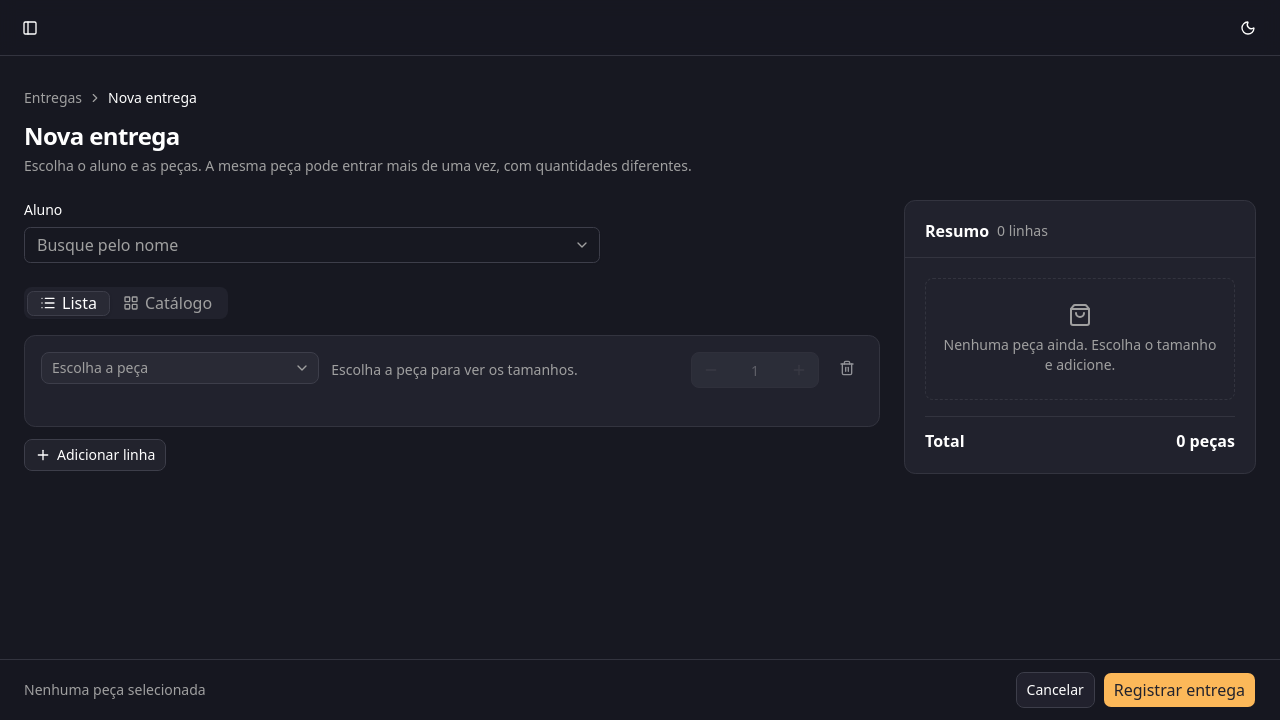
Test: NovaEntregaPage › exige um aluno antes de registrar
Click the dropdown named "Peça da linha 1": (100, 368) x1=41 y1=352 x2=319 y2=384
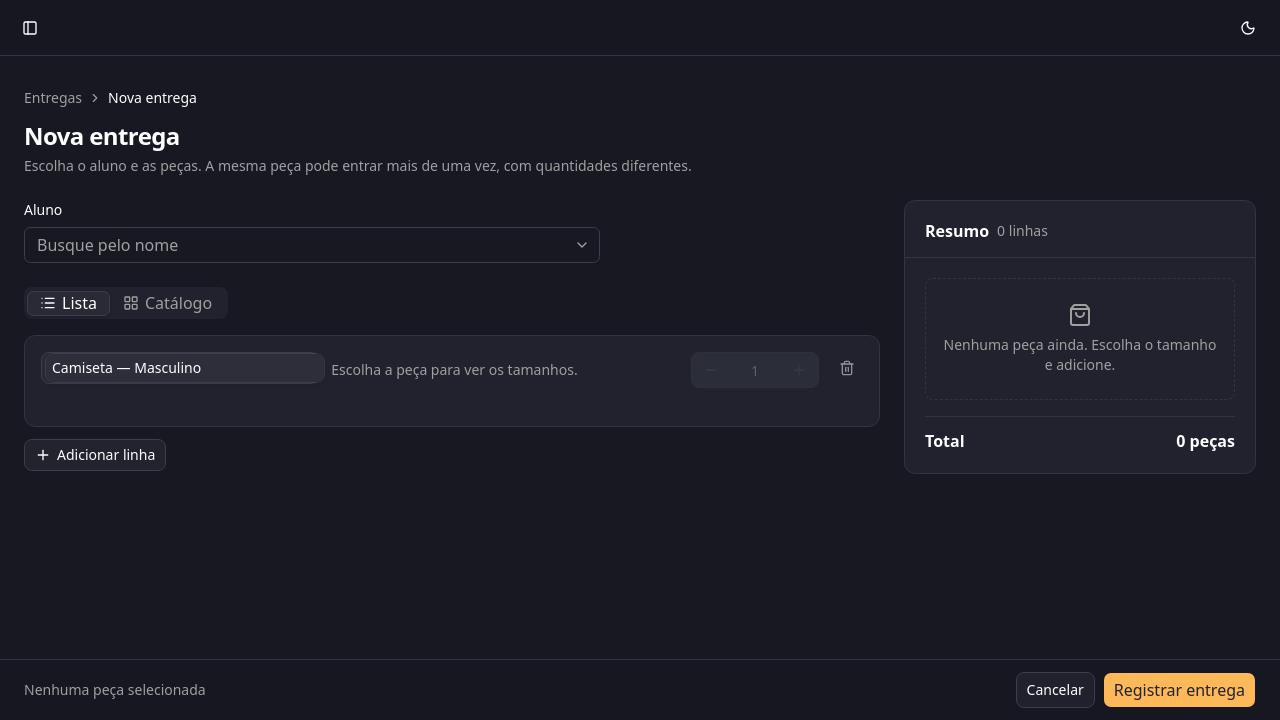
Click the option "Camiseta — Masculino": (185, 368) x1=46 y1=354 x2=324 y2=382
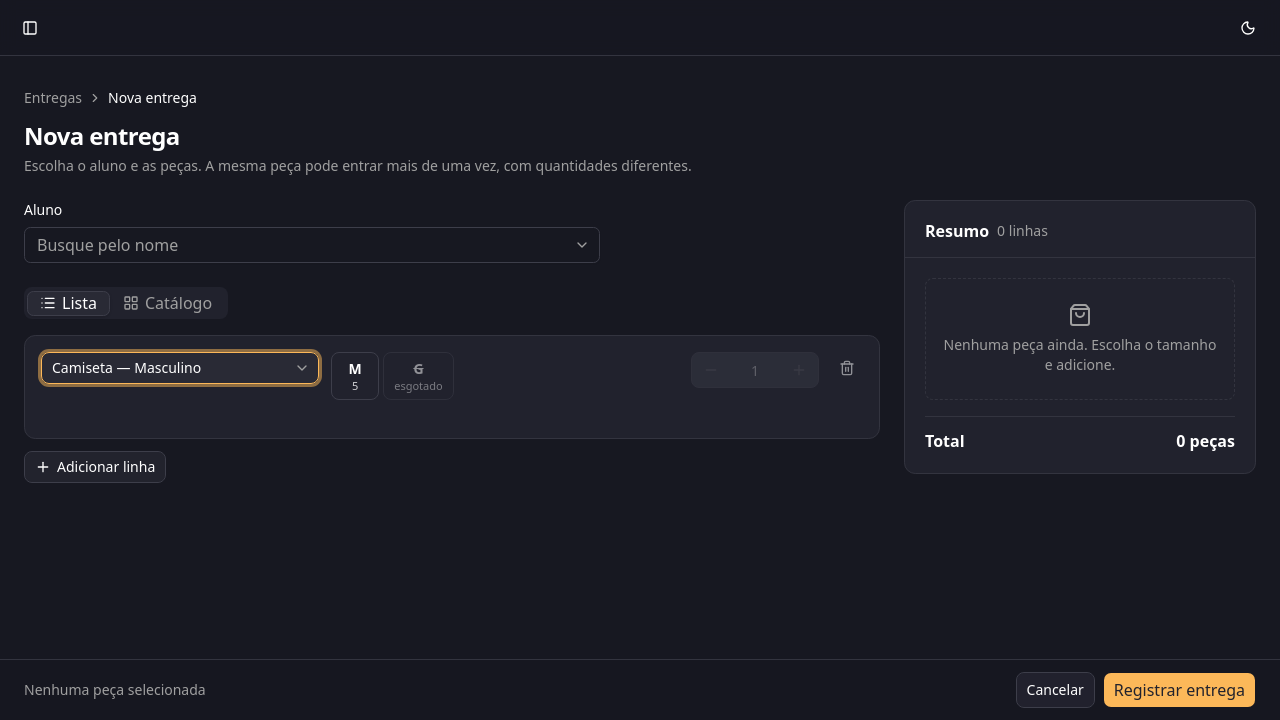
Click the button "M 5": (355, 376) x1=331 y1=352 x2=379 y2=400
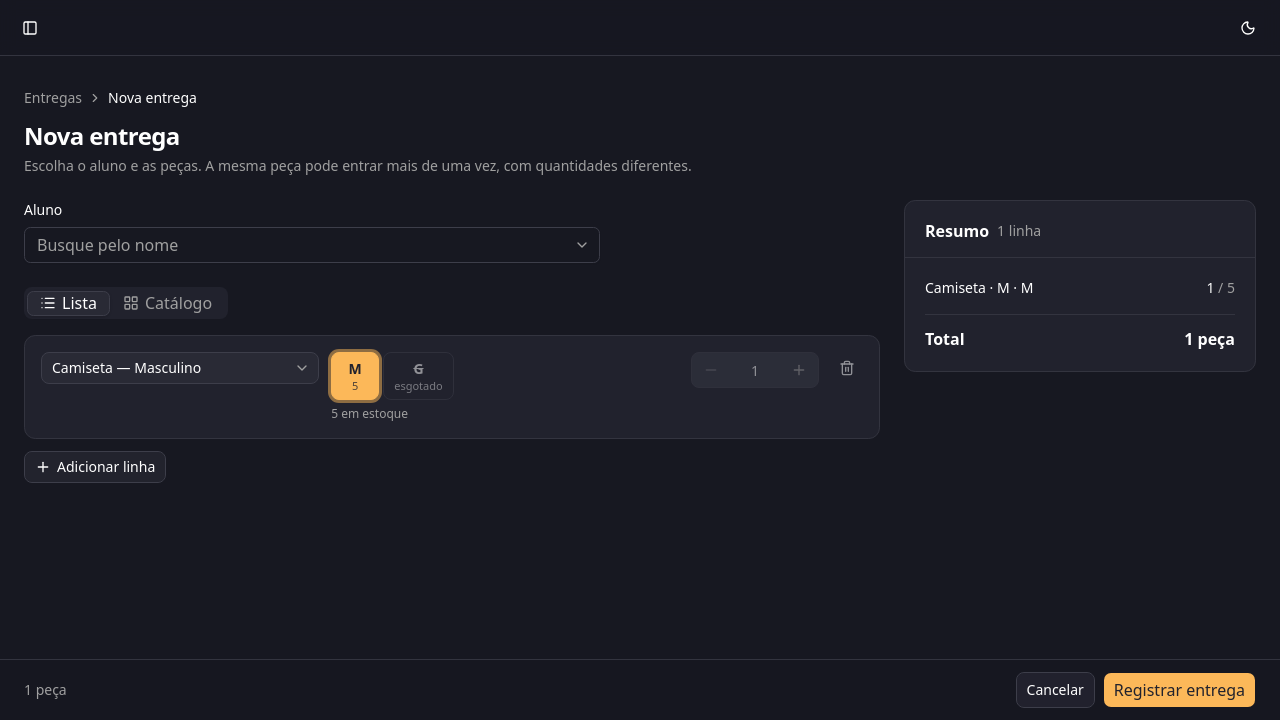
Click the button "Registrar entrega": (1179, 690) x1=1103 y1=672 x2=1256 y2=708
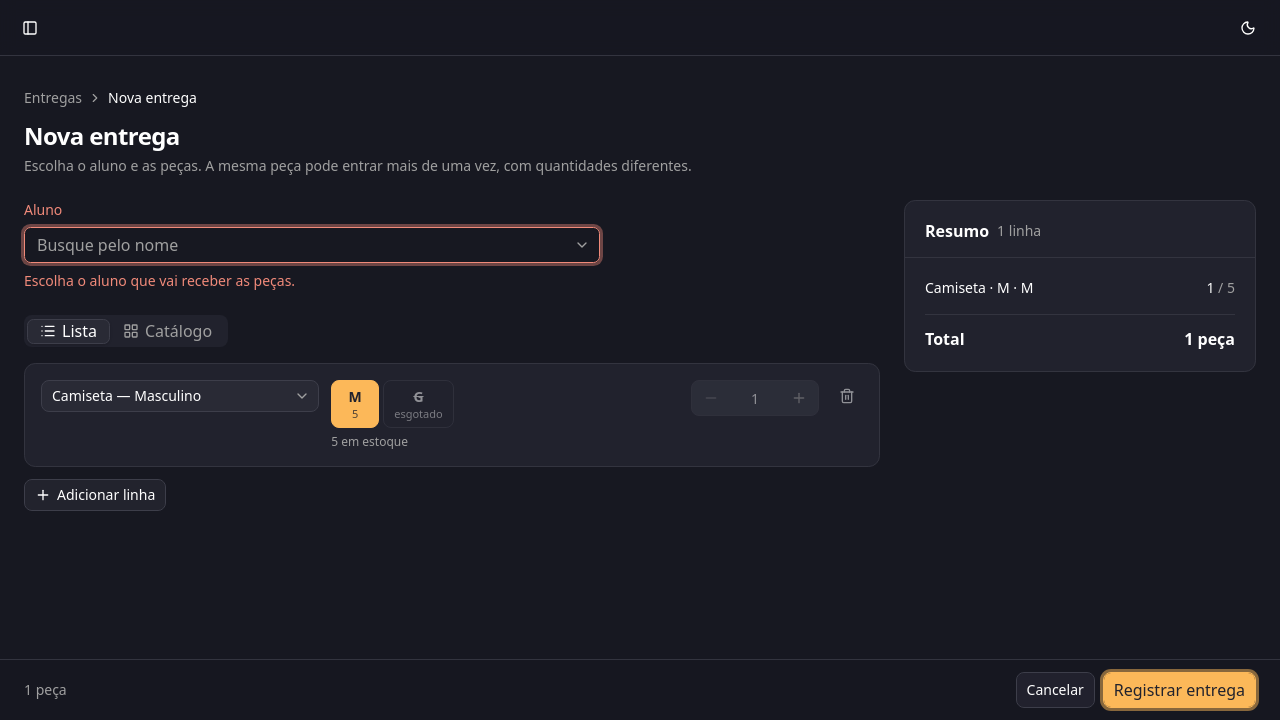
Check: the text "Escolha o aluno que vai receber as peças." is shown, box x1=24 y1=271 x2=295 y2=290
